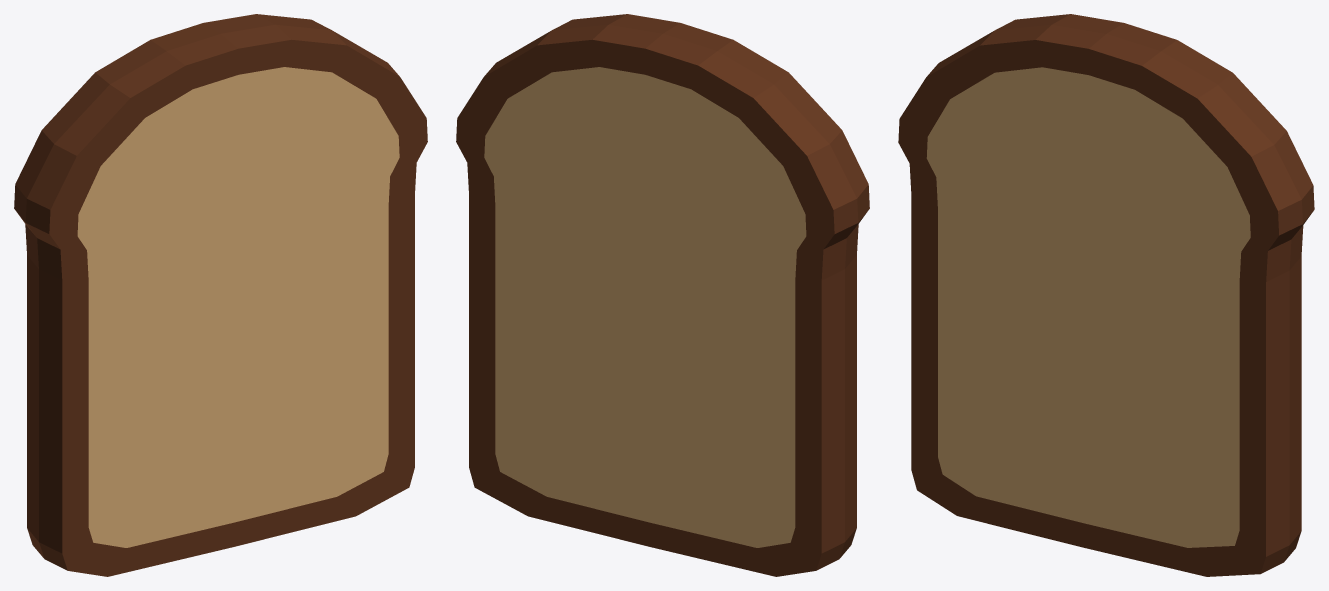
The model's file is Bread_Slice.obj.
The picture shows the model from 3 angles, left to right: view 1: azimuth 30°, elevation 25°; view 2: azimuth 150°, elevation 25°; view 3: azimuth 330°, elevation 25°; orthographic projection.
Parts seen in each view (by area): view 1: Bread_Slice_Light, Bread_Slice_Brown; view 2: Bread_Slice_Light, Bread_Slice_Brown; view 3: Bread_Slice_Light, Bread_Slice_Brown.
Part boxes in pixels (box(x1,y1,x2,y2)): Bread_Slice_Light: box(77, 67, 399, 547); Bread_Slice_Brown: box(14, 14, 427, 576); Bread_Slice_Light: box(484, 67, 806, 547); Bread_Slice_Brown: box(456, 14, 869, 576); Bread_Slice_Light: box(926, 67, 1250, 547); Bread_Slice_Brown: box(898, 14, 1314, 576).
Bounding box in the file's own units: 0.6933 × 0.847 × 0.1083.
